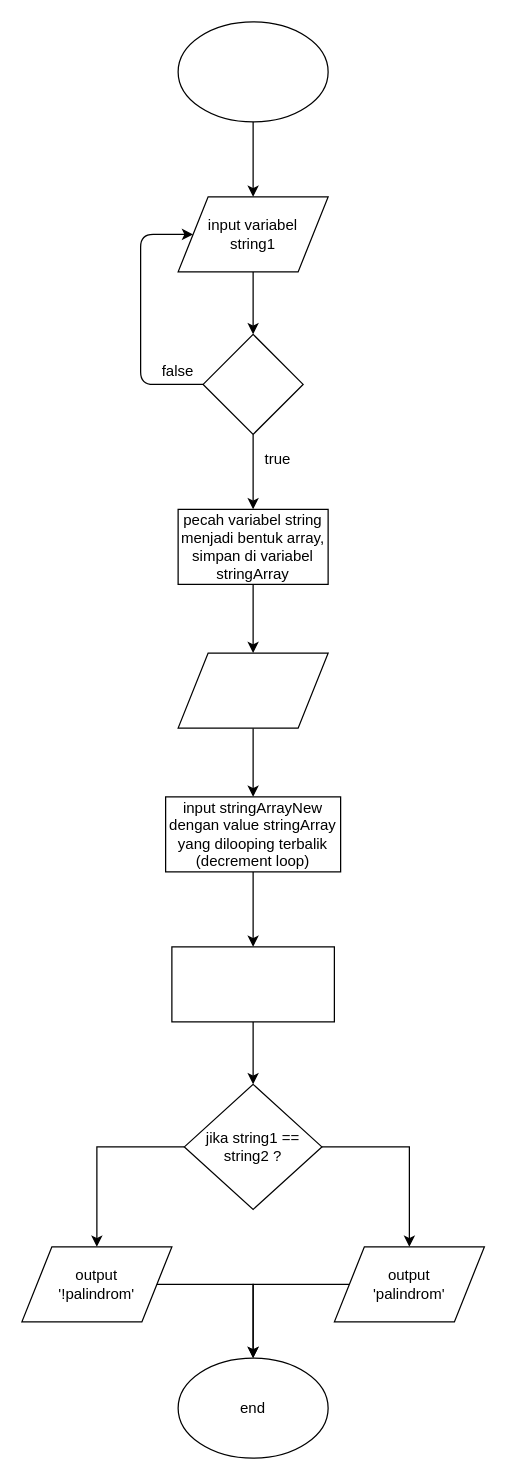
This 506x1480 diagram has some shape labels left out. Here are the shapes that lost their labels. From the top down, the centre of each, then its label:
pixel 252 71: start
pixel 252 383: string > 0 ?
pixel 252 690: input variabel stringArrayNew dengan array kosong []
pixel 252 984: konversi stringArrayNew dari array ke string, simpan di variabel string2
